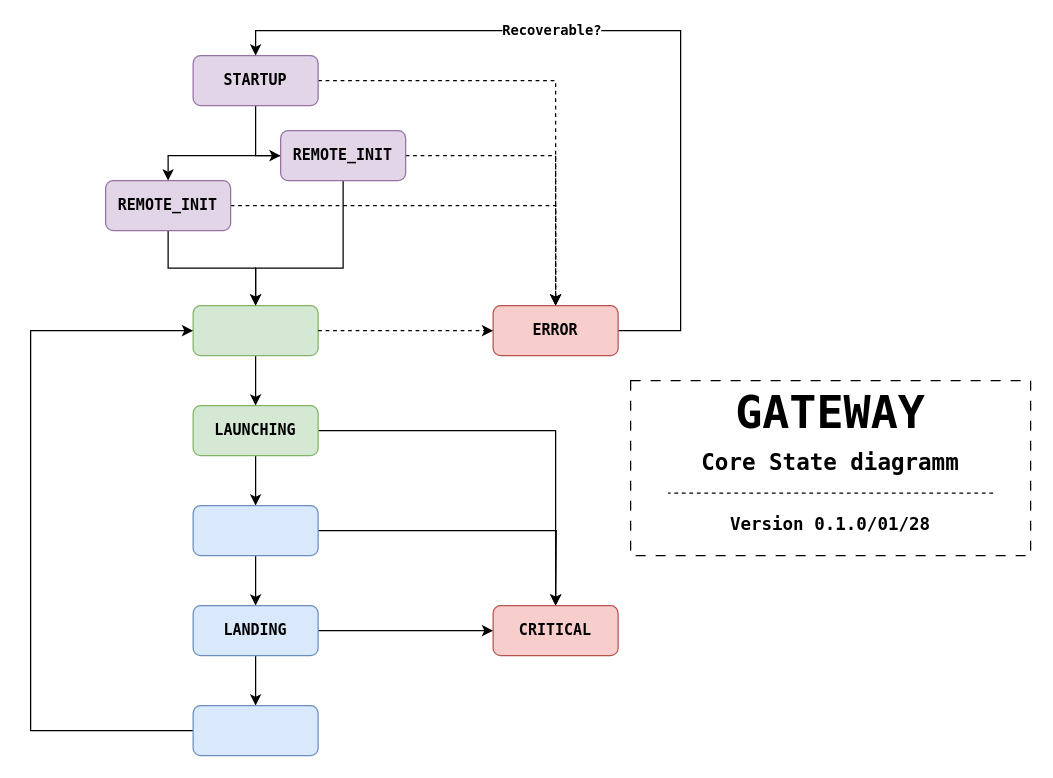
Image size: 1053x778. Some labels were removed from this diagram. The centre of each missing label's shape, as x and y in pixels:
DONE: [255,730]
READY: [255,330]
RUNNING: [255,530]
